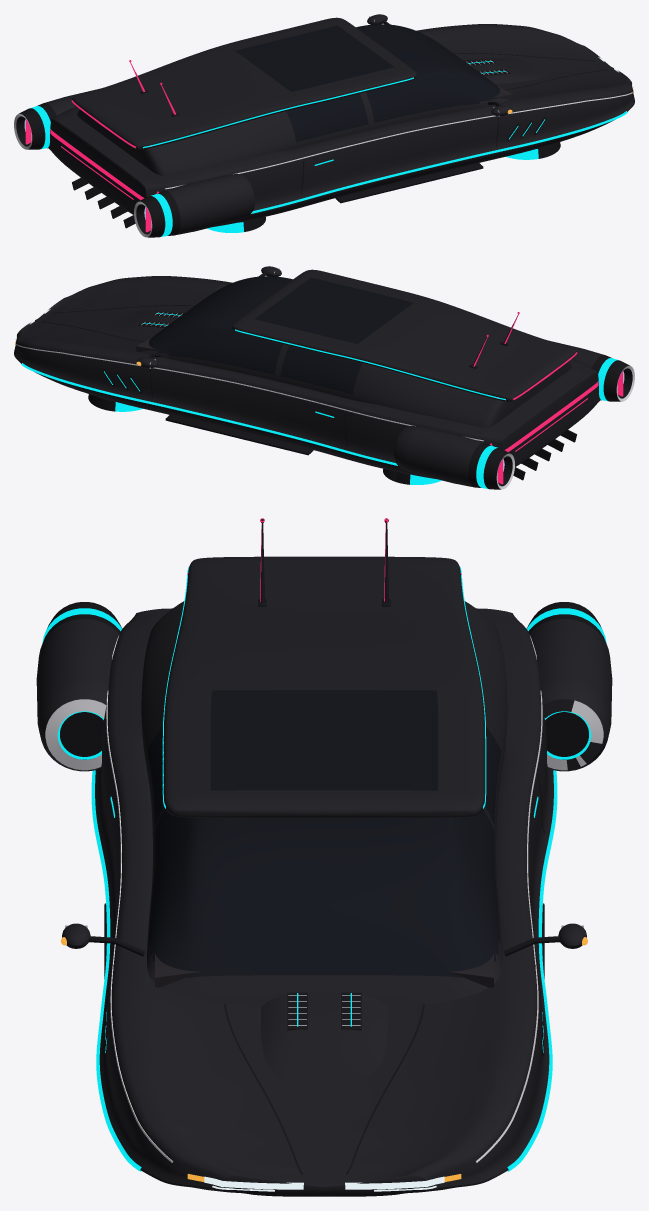
File: car.glb
The picture shows the model from 3 angles, top to bottom: view 1: azimuth 30°, elevation 25°; view 2: azimuth 150°, elevation 25°; view 3: azimuth 270°, elevation 25°; orthographic projection. The views are drawn at different scales.
Visible parts, largest first — view 1: V0_HoverCar; view 2: V0_HoverCar; view 3: V0_HoverCar.
Boxes of the visible parts, left/top/right/bottom form: V0_HoverCar: left=14, top=14, right=634, bottom=237; V0_HoverCar: left=14, top=266, right=634, bottom=489; V0_HoverCar: left=36, top=518, right=612, bottom=1196.
Size of the model in its own units: 5.89 by 1.42 by 2.78.
